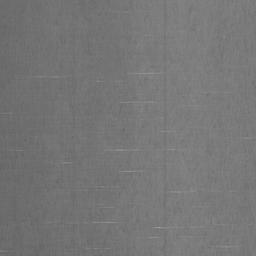Waist folding: (149, 222, 256, 250), (105, 147, 186, 174), (96, 67, 161, 84), (0, 220, 116, 227), (68, 245, 111, 256), (170, 187, 213, 194), (0, 74, 60, 79), (119, 99, 155, 105), (98, 10, 128, 17), (244, 136, 256, 141)
